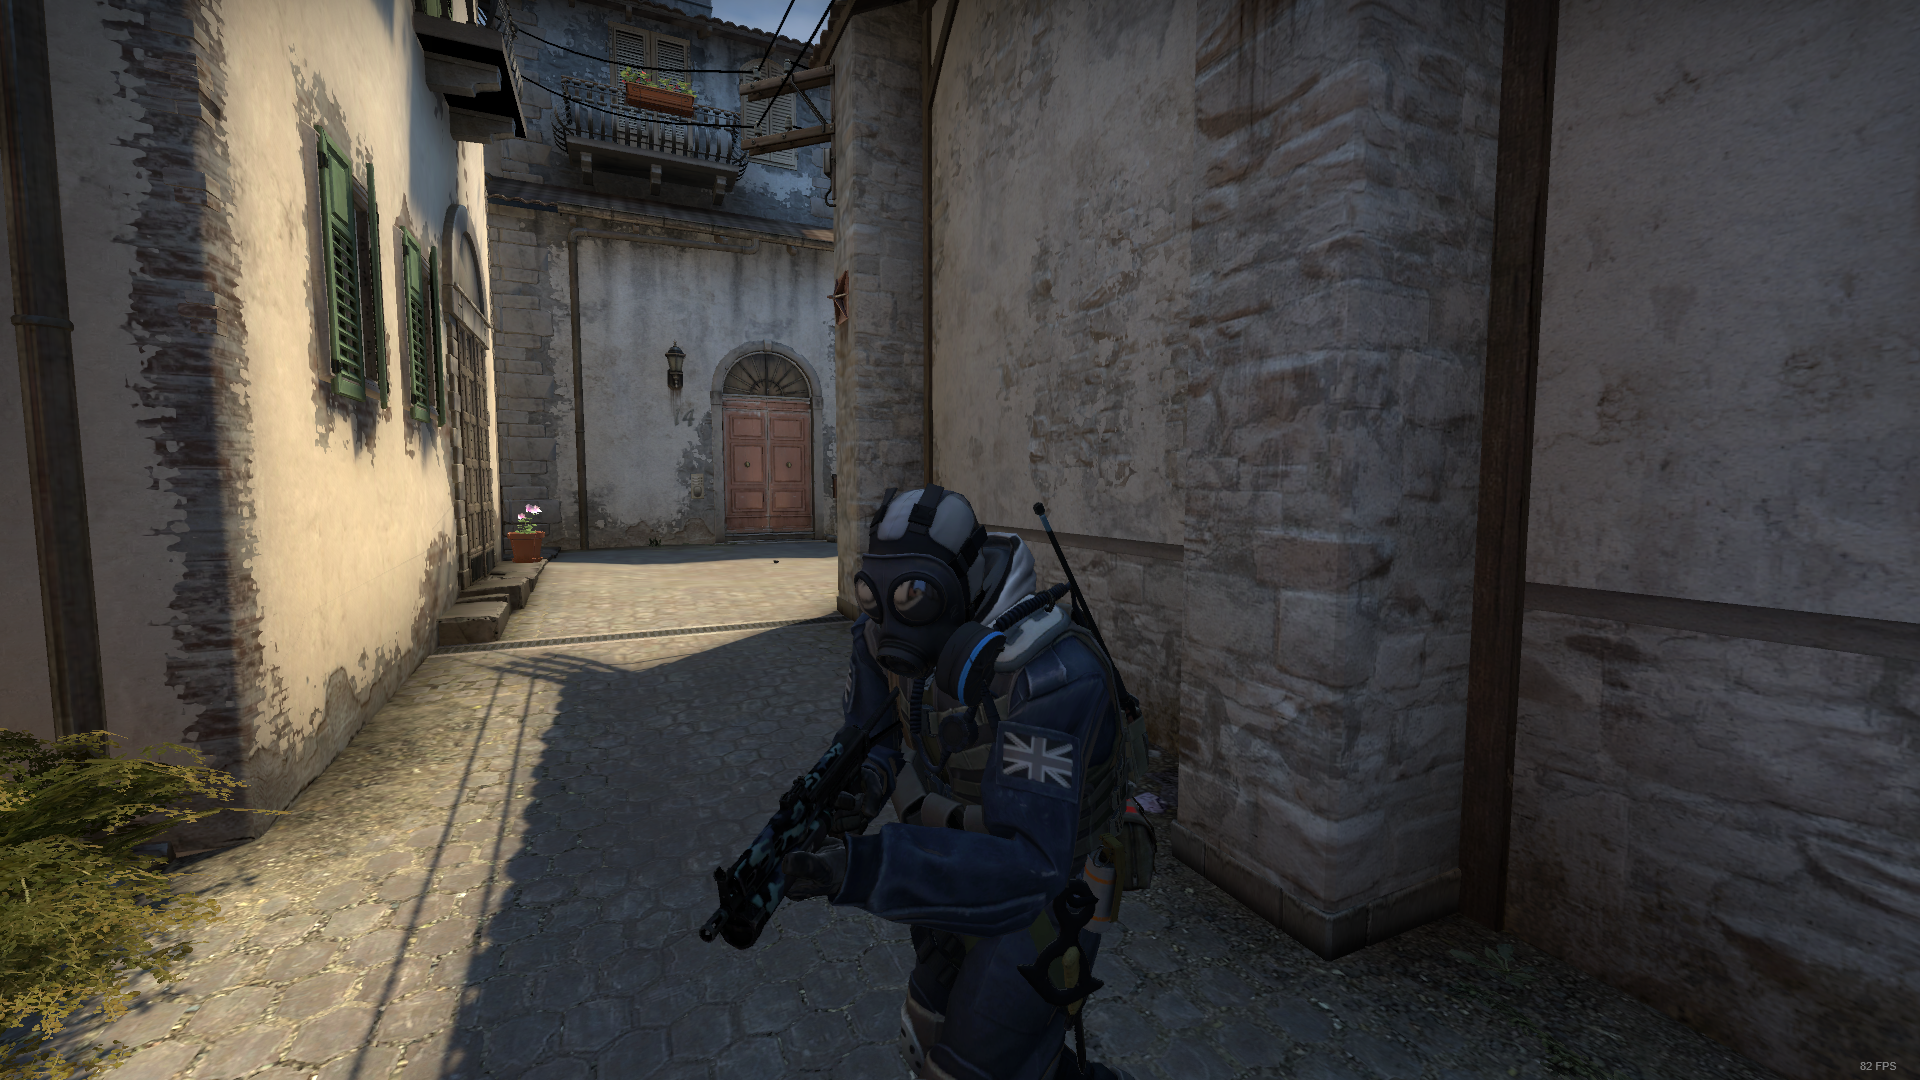ct: (785, 485, 1159, 1080)
